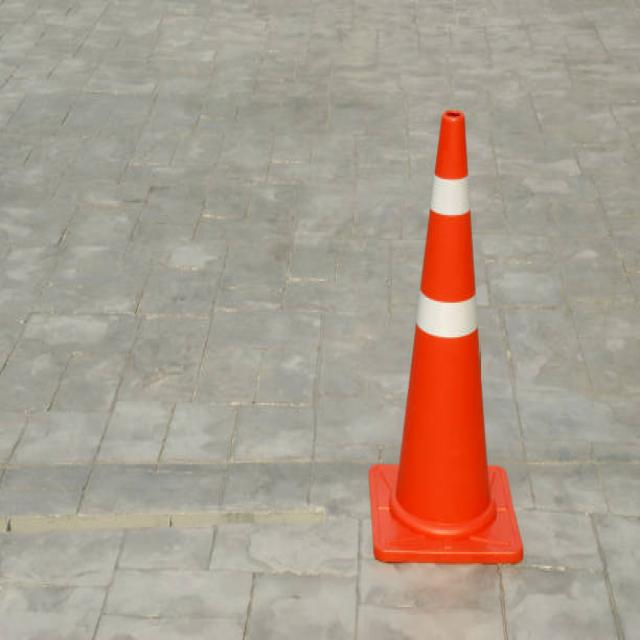Traffic Cone: (331, 55, 554, 586)
